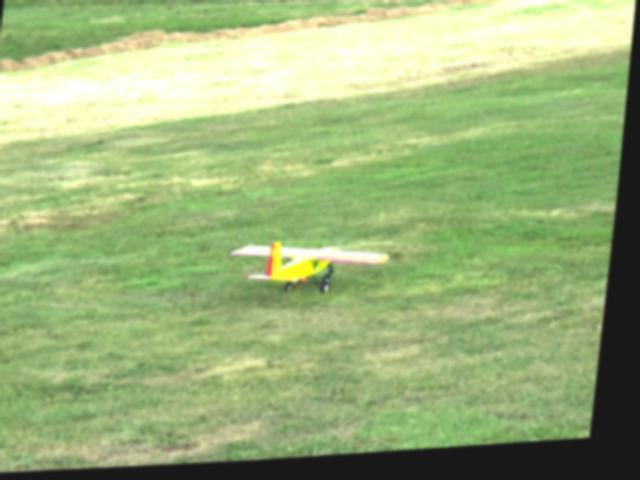plane: (231, 239, 396, 302)
